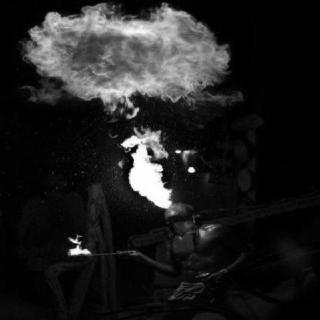Fire: (44, 233, 122, 260)
